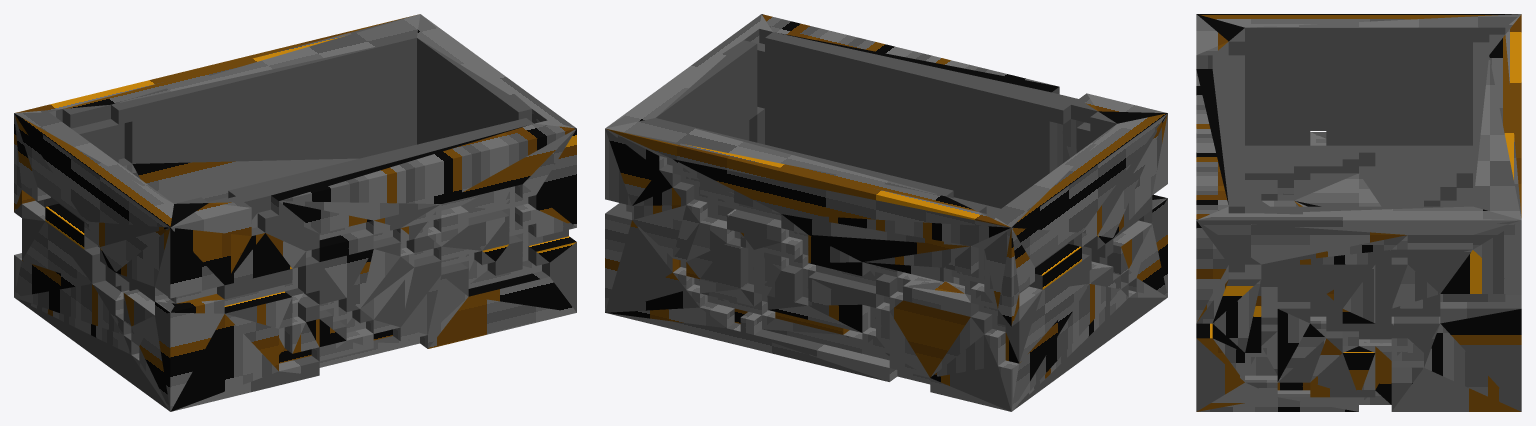
Rendered from chest.dae.
The picture shows the model from 3 angles, left to right: view 1: azimuth 30°, elevation 25°; view 2: azimuth 150°, elevation 25°; view 3: azimuth 270°, elevation 25°; orthographic projection. The views are drawn at different scales.
Visible parts, largest first — view 1: chest; view 2: chest; view 3: chest.
Boxes of the visible parts, x1,y1,x2,y2 form: chest: [14, 14, 576, 411]; chest: [605, 14, 1167, 411]; chest: [1196, 14, 1521, 411].
Size of the model in its own units: 3 by 2 by 1.3.
